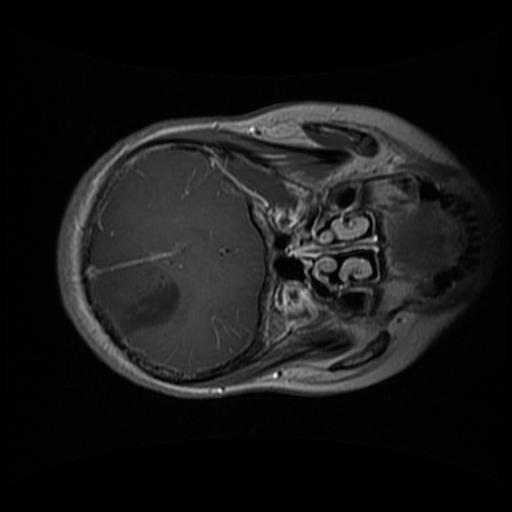glioma: (115, 277, 181, 339)
